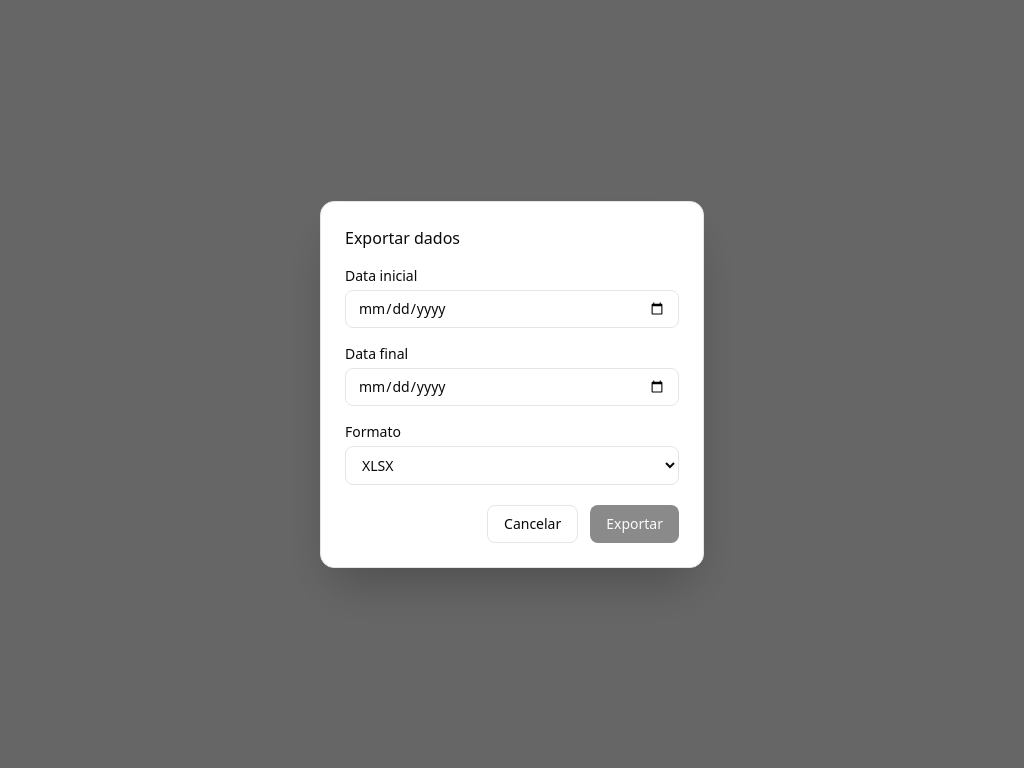
Test: ExportModal › botão "Exportar" fica habilitado após preencher ambas as datas
Type "2025-01-01" into the date field labelled "Data inicial" at (512, 308), box 345,290 -> 679,328
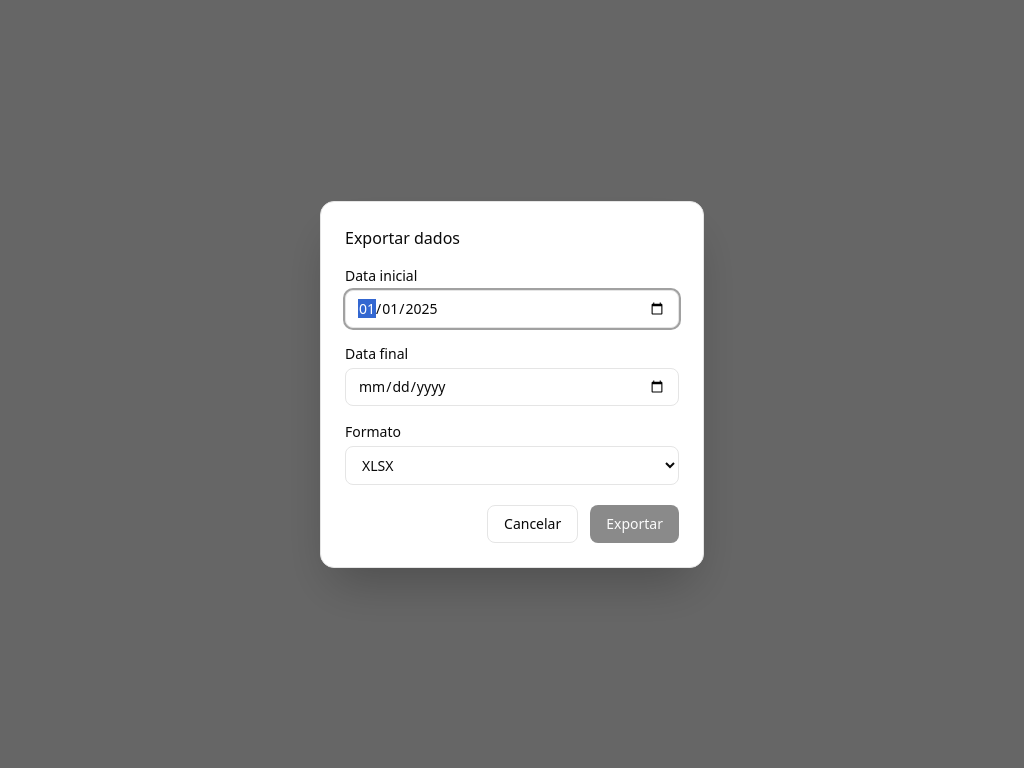
Type "2025-12-31" into the date field labelled "Data final" at (512, 386), box 345,368 -> 679,406
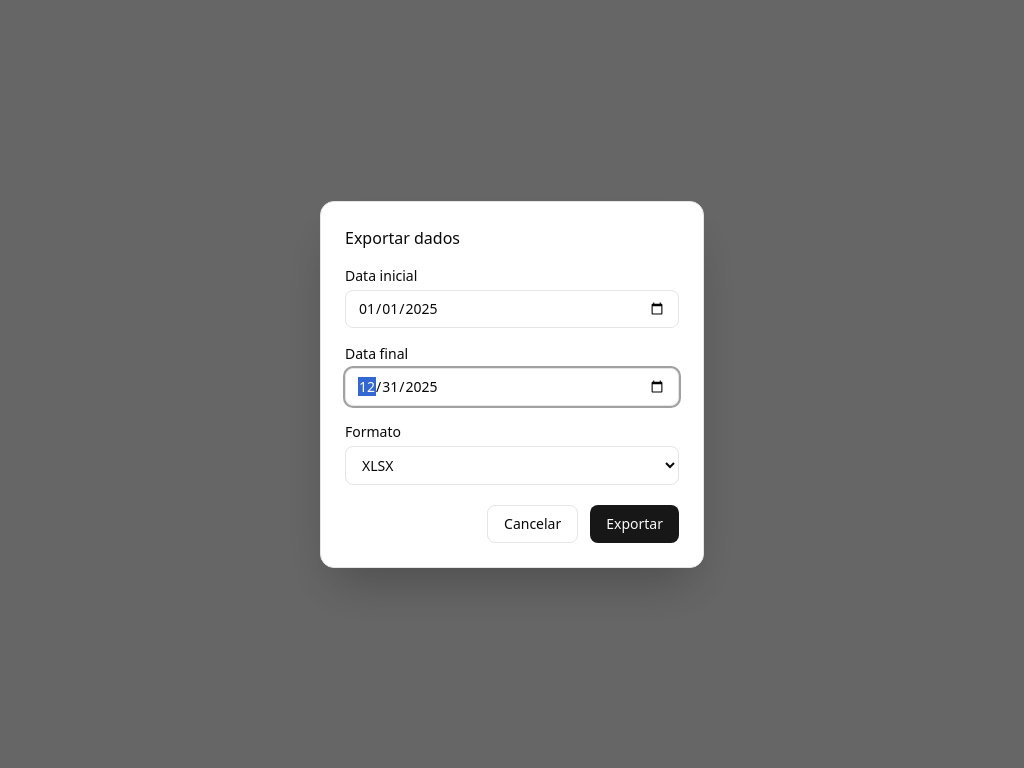
Check: the button "Exportar" is enabled, box 590,504 -> 679,542
